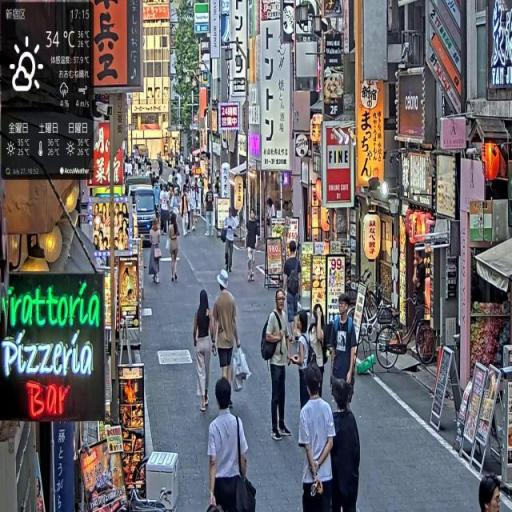person: (207, 375, 256, 512), (299, 364, 337, 512), (262, 287, 295, 446), (330, 378, 363, 512), (211, 269, 244, 402), (329, 293, 360, 414), (193, 289, 216, 415), (289, 312, 316, 415), (283, 240, 302, 341), (222, 207, 239, 276), (245, 210, 260, 286), (168, 212, 182, 287), (149, 218, 163, 285)
